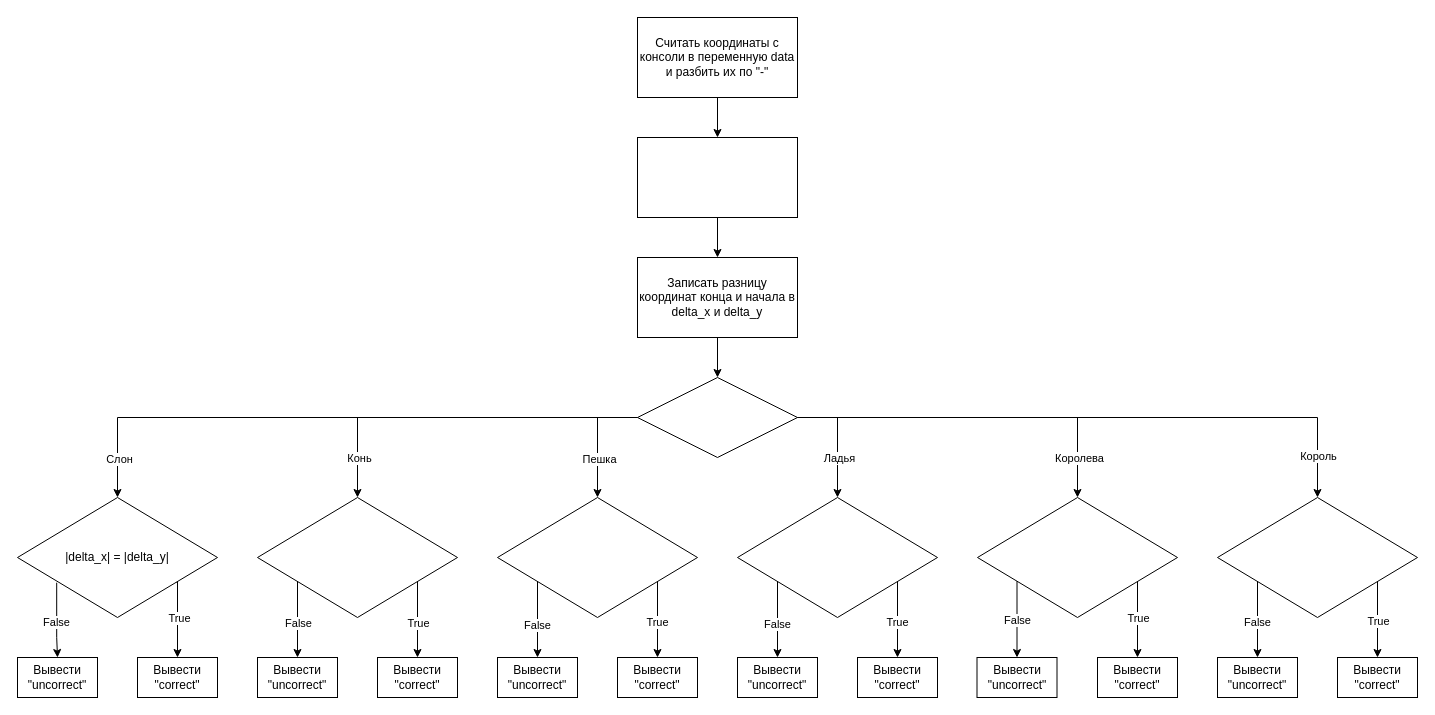
Image size: 1435x715. Some labels were removed from this diagram. The shapes that lost their labels are listed below. From the top down, each one's centre as x and y in pixels, then its label:
point 717,177: Считать название фигуры в переменную figure
point 717,417: Какая фигура ходит?
point 357,557: |delta_x| + |delta_y| = 3 и не delta_x * delta_y = 0
point 597,557: delta_x = 0 и (delta_y = 1 или delta_y = 2 в особом случае
point 837,557: delta_x * delta_y = 0
point 1077,557: delta_x * delta_y = 0 или |delta_x| = |delta_y|
point 1317,557: |delta_x| <= 1 и |delta_y| <= 1
